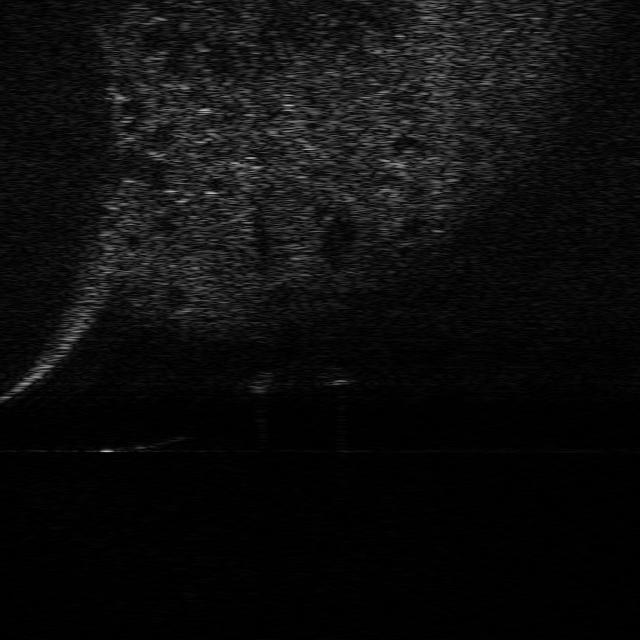cube: (318, 364, 352, 386)
cylinder: (248, 368, 278, 394)
